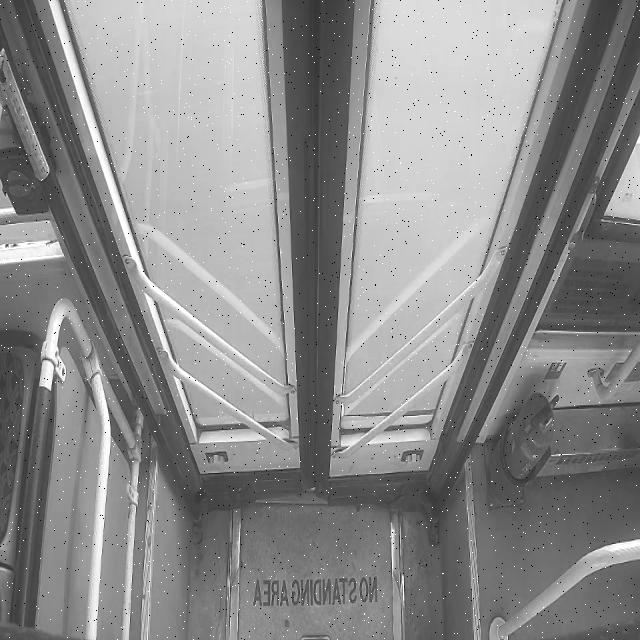close: (62, 2, 564, 488)
